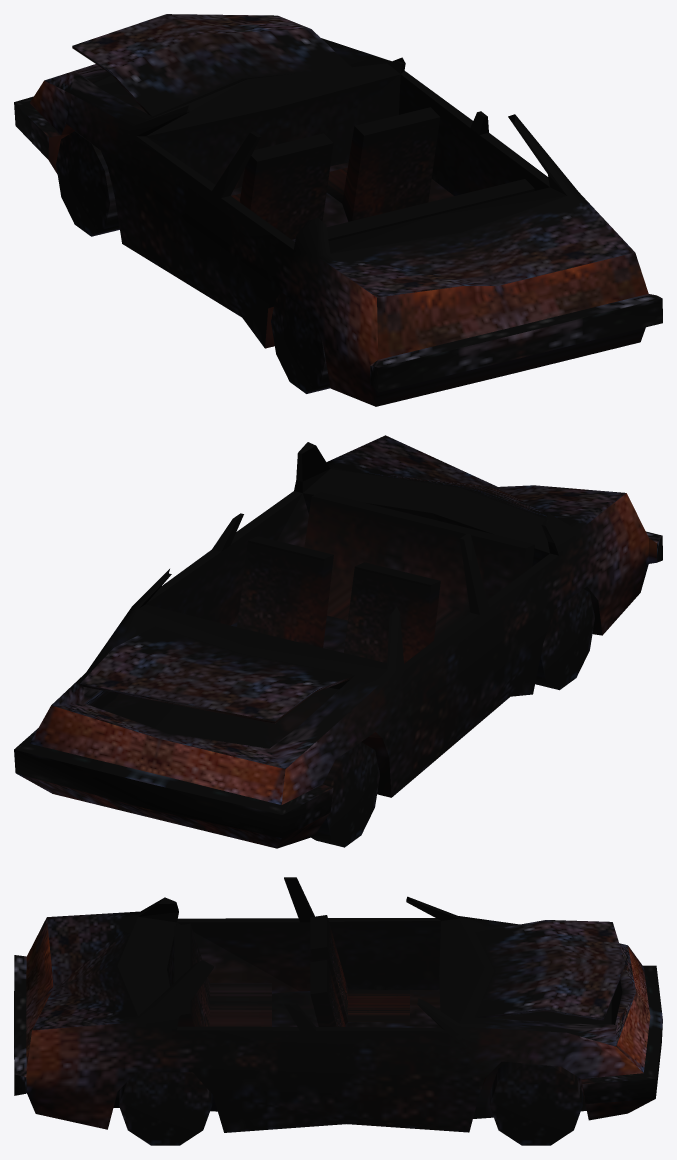
Rendered from CivCar_v1_wrecked.glb.
3 views of the same model, one above another, from view 1: azimuth 30°, elevation 25°; view 2: azimuth 150°, elevation 25°; view 3: azimuth 270°, elevation 25° (orthographic). The views are drawn at different scales.
Parts seen in each view (by area): view 1: CIVCAR_V1_WRECKED; view 2: CIVCAR_V1_WRECKED; view 3: CIVCAR_V1_WRECKED.
Boxes of the visible parts, x1,y1,x2,y2 form: CIVCAR_V1_WRECKED: (14,14,662,406); CIVCAR_V1_WRECKED: (14,435,662,848); CIVCAR_V1_WRECKED: (14,877,662,1145).
Bounding box in the file's own units: 2.04 × 1.36 × 4.63.
Materials: 2 (2 with a texture image).
